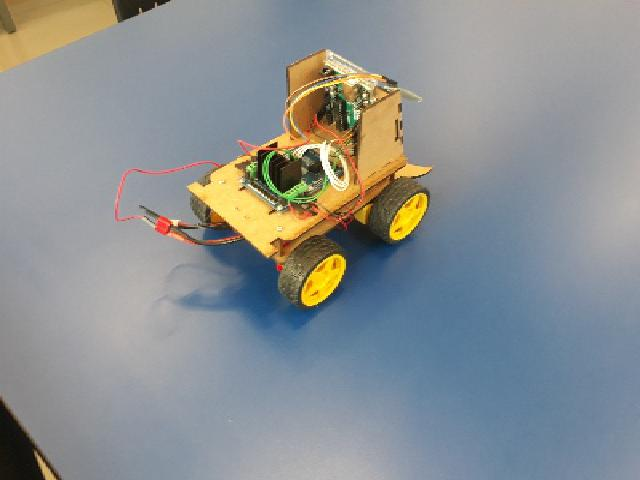Robot: (184, 48, 430, 310)
